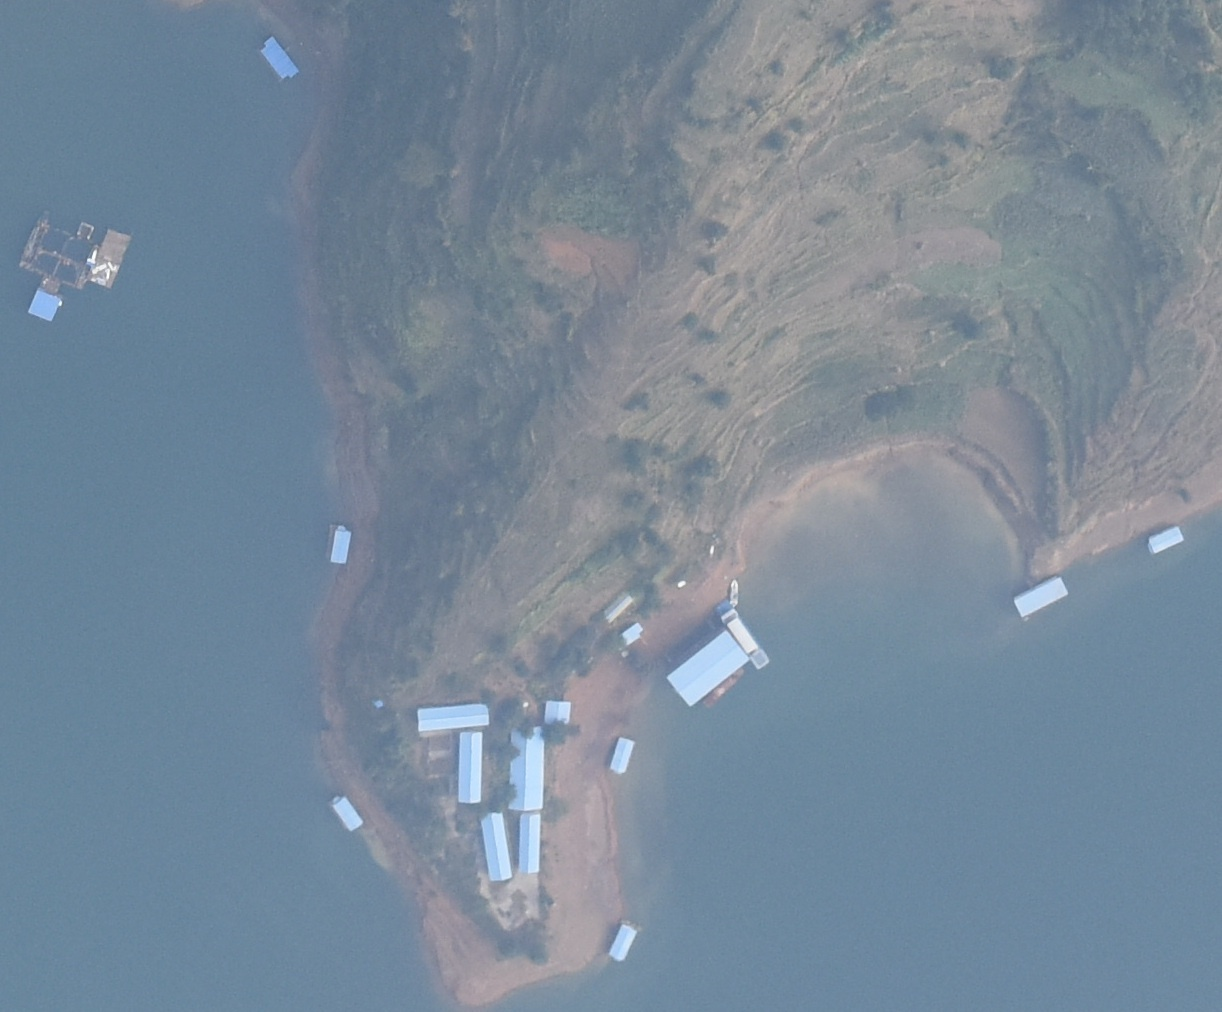cultivation-mesh-cage: (23, 221, 94, 291)
prefabricated-house: (669, 629, 750, 709), (510, 723, 546, 812), (479, 812, 514, 883), (1012, 574, 1069, 616), (417, 703, 491, 730), (458, 731, 484, 804), (261, 36, 300, 80), (519, 812, 542, 873), (332, 796, 365, 833), (1149, 525, 1185, 555), (602, 592, 634, 623), (609, 735, 635, 773), (29, 290, 61, 321), (611, 925, 637, 960), (329, 528, 351, 563), (619, 622, 644, 646)
ship: (706, 667, 745, 707), (729, 578, 740, 606)
